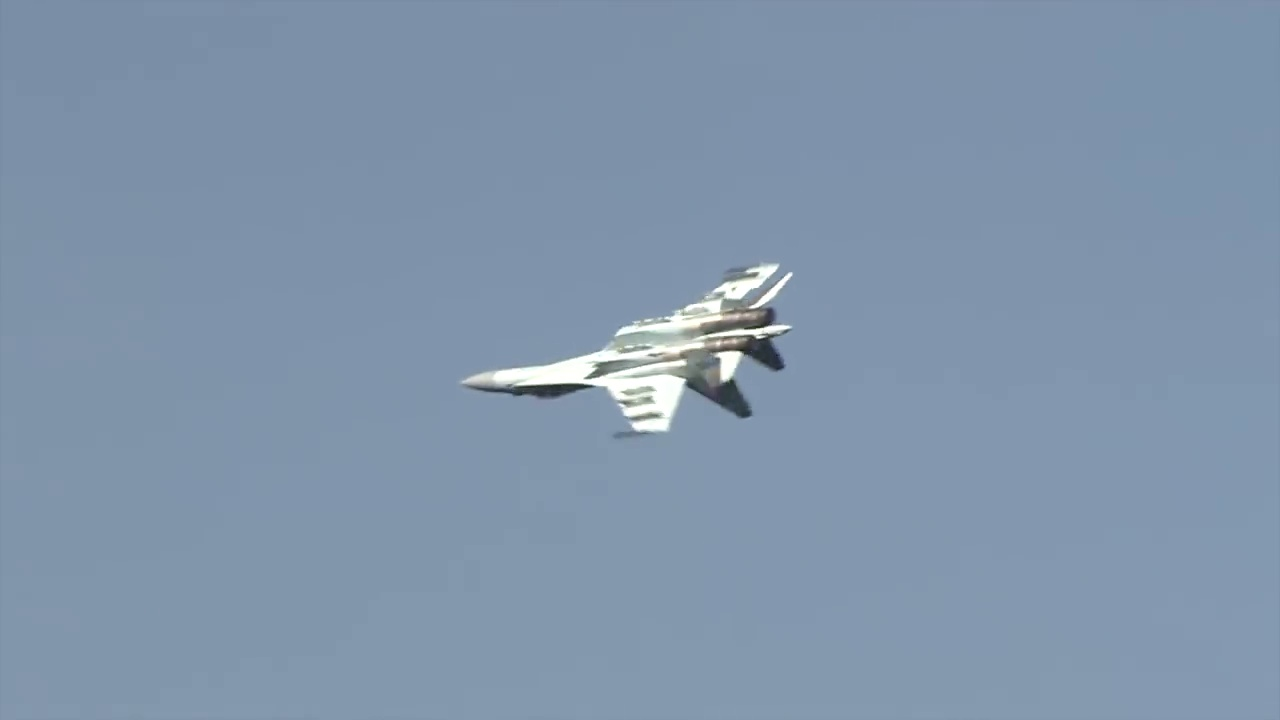Su35: (447, 254, 800, 453)
